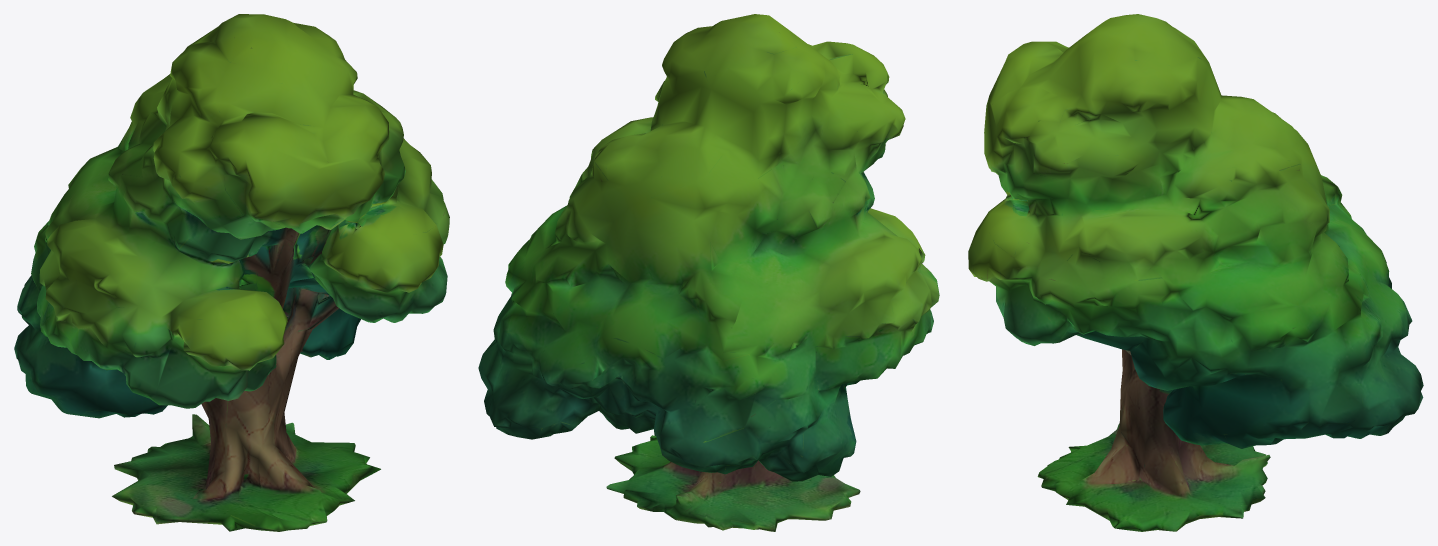
The model's file is treeA05.fbx.
The picture shows the model from 3 angles, left to right: view 1: azimuth 30°, elevation 25°; view 2: azimuth 150°, elevation 25°; view 3: azimuth 270°, elevation 25°; orthographic projection. The views are drawn at different scales.
Visible parts, largest first — view 1: treeA05; view 2: treeA05; view 3: treeA05.
Boxes of the visible parts, bbox=[...] form: treeA05: bbox=[14, 14, 449, 531]; treeA05: bbox=[478, 14, 939, 531]; treeA05: bbox=[968, 14, 1423, 531].
Size of the model in its own units: 118 by 144 by 129.
Materials: 1 (1 with a texture image).
